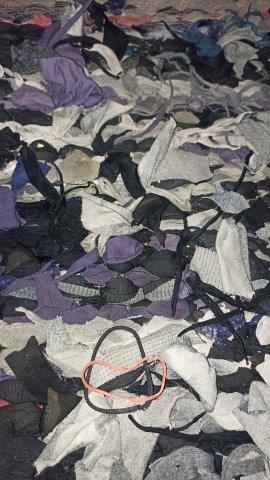karet: (81, 326, 168, 415)
